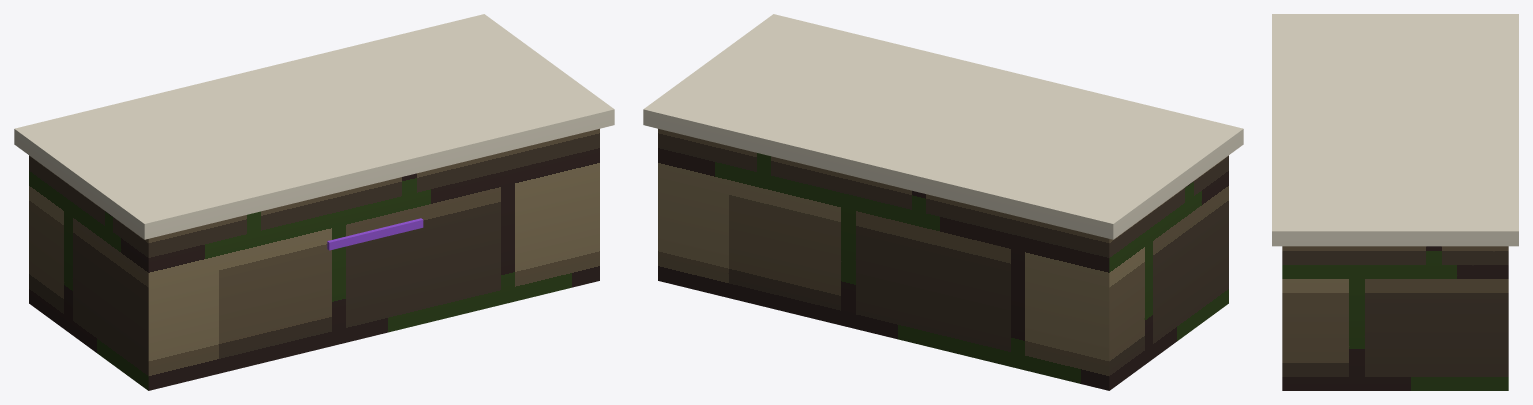
File: lich_bier.glb
3 renders of one model, left to right at view 1: azimuth 30°, elevation 25°; view 2: azimuth 150°, elevation 25°; view 3: azimuth 270°, elevation 25°, orthographic. The views are drawn at different scales.
Visible parts, largest first — view 1: lich_bier; view 2: lich_bier; view 3: lich_bier.
Boxes of the visible parts, left/top/right/bottom form: lich_bier: left=14, top=14, right=614, bottom=390; lich_bier: left=643, top=14, right=1243, bottom=390; lich_bier: left=1272, top=14, right=1518, bottom=390.
Bounding box in the file's own units: 2.5 × 0.88 × 1.2.
3 materials, 1 textured.
